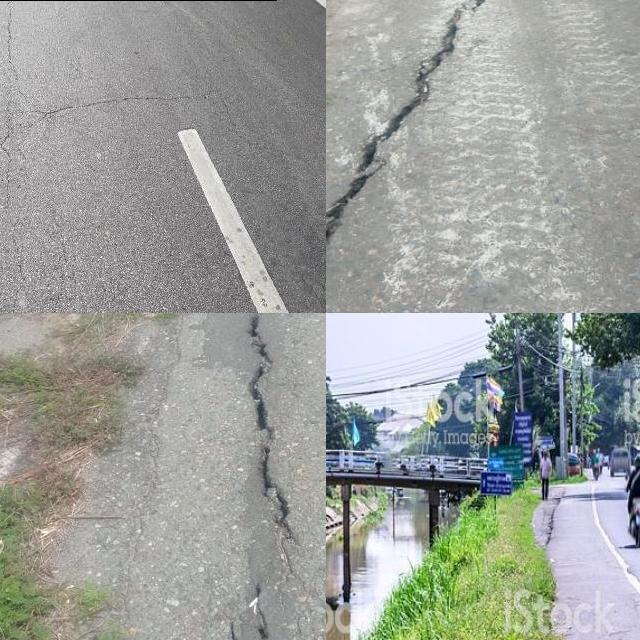Melintang: (28, 85, 229, 133)
Memanjang: (210, 313, 315, 640)
Pinggir: (326, 0, 511, 313)
